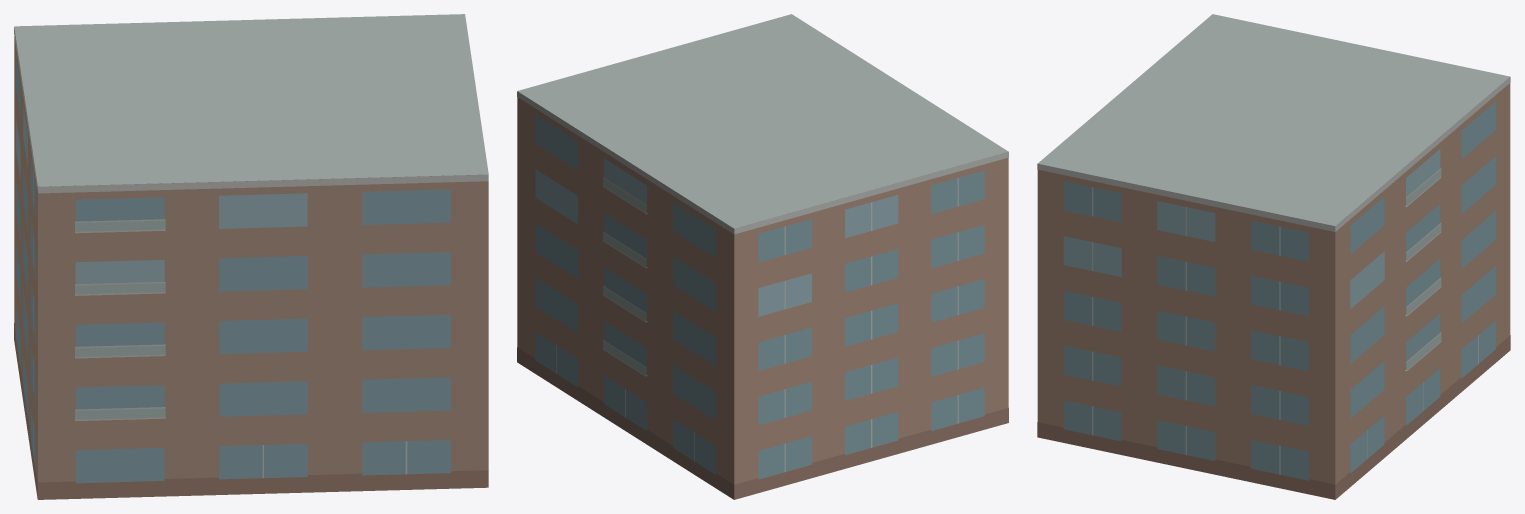
File: survey-upis-32850225.glb
The picture shows the model from 3 angles, left to right: view 1: azimuth 30°, elevation 25°; view 2: azimuth 150°, elevation 25°; view 3: azimuth 270°, elevation 25°; orthographic projection. The views are drawn at different scales.
Visible parts, largest first — view 1: survey-upis-32850225.tmp; view 2: survey-upis-32850225.tmp; view 3: survey-upis-32850225.tmp.
Part boxes in pixels (<box>): survey-upis-32850225.tmp: <box>14,14,488,499</box>; survey-upis-32850225.tmp: <box>517,14,1008,499</box>; survey-upis-32850225.tmp: <box>1037,14,1510,499</box>.
Size of the model in its own units: 18.88 by 11.35 by 17.79.
